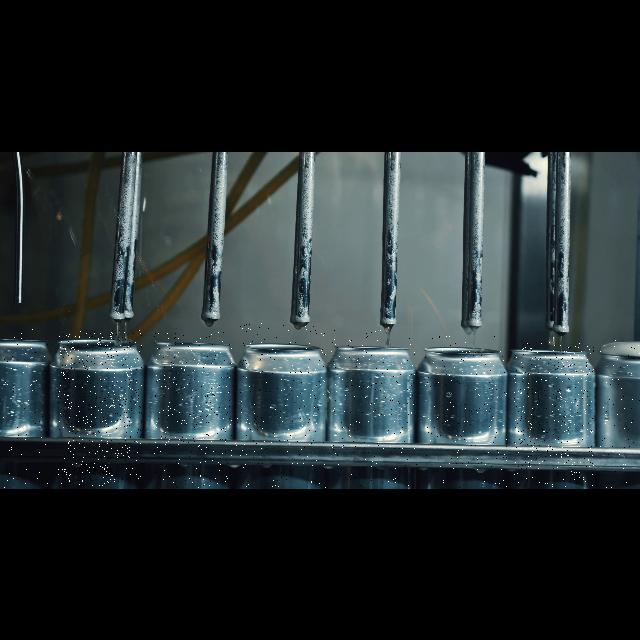empty: (234, 322, 326, 488), (331, 330, 417, 488), (58, 330, 142, 486), (425, 336, 507, 488), (154, 332, 232, 488), (514, 342, 594, 488), (2, 326, 48, 488)
full: (600, 334, 640, 488)
